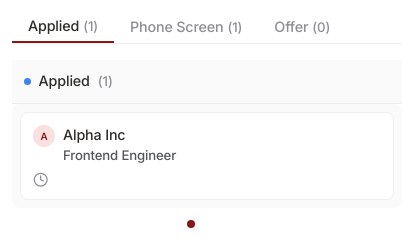
Scenario: KanbanBoard — mobile swipe navigation › should navigate to the next stage on left swipe
Expected: the text "Alpha Inc" is shown, [63,126,126,143]
Step 1. Press the mouse on the element with test id "mobile-kanban-swipe" → (207, 134), box [12,60,401,208]
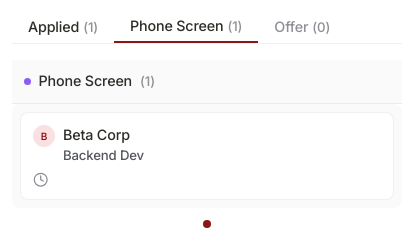
Expected: the element with test id "kanban-column-Phone Screen" is shown, [12,60,401,208]
